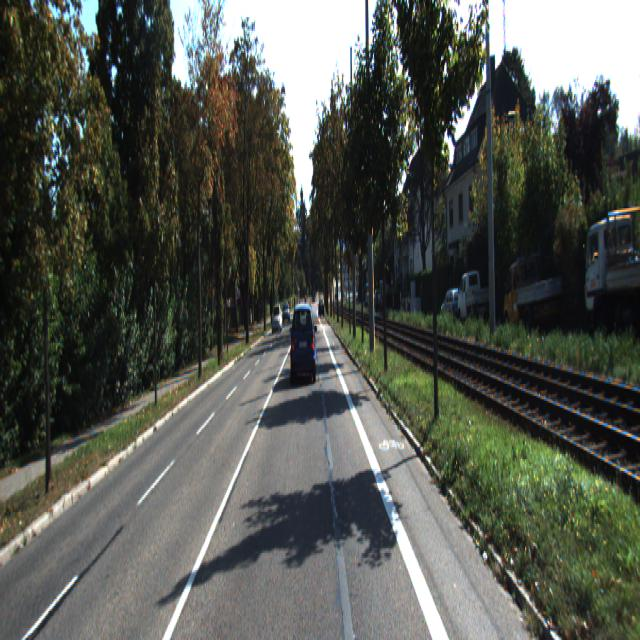Car: (584, 203, 639, 345), (502, 252, 564, 335), (290, 300, 316, 386), (457, 269, 491, 323), (442, 288, 466, 324), (272, 305, 282, 335)
